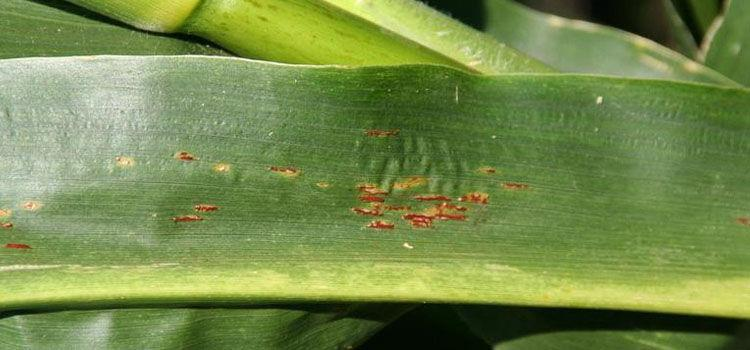Corn rust leaf: (1, 45, 750, 327)
